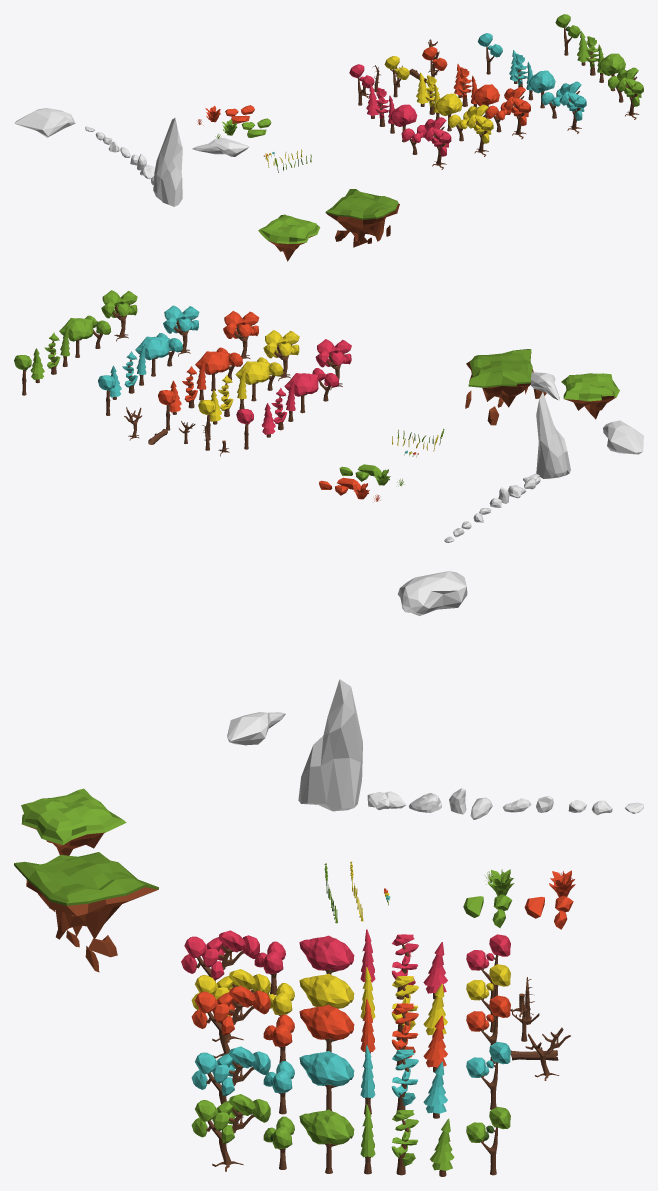
File: forest.glb
3 views of the same model, one above another, from view 1: azimuth 30°, elevation 25°; view 2: azimuth 150°, elevation 25°; view 3: azimuth 270°, elevation 25° (orthographic). The views are drawn at different scales.
Parts seen in each view (by area): view 1: L1, r10, L2, cloud2, t1-yellow, t1-green, t1-cyan, t1-purple, t1-orange, cloud1, t3-cyan, t3-yellow (+9 smaller); view 2: L1, r10, L2, cloud2, t1-green, t1-yellow, t1-cyan, t1-orange, t1-purple, t3-purple, t3-orange, t3-cyan (+4 smaller); view 3: L1, r10, L2, t1-green, t1-orange, t1-cyan, cloud2, t1-purple, t3-green, t3-cyan, t3-orange, t3-purple (+13 smaller).
Part boxes in pixels (x1,y1,x2,y2): L1: (325,189,399,247); r10: (153,118,182,206); L2: (258,214,320,261); cloud2: (14,108,75,137); t1-yellow: (466,104,493,156); t1-green: (616,67,643,119); t1-cyan: (559,81,586,133); t1-purple: (424,117,451,169); t1-orange: (504,87,530,139); cloud1: (192,137,248,156); t3-cyan: (528,70,555,108); t3-yellow: (435,93,462,131); L1: (465,349,546,425); r10: (536,392,570,478); L2: (561,373,619,419); cloud2: (603,420,643,454); t1-green: (101,290,137,341); t1-yellow: (263,330,299,381); t1-cyan: (163,305,199,356); t1-orange: (223,311,259,358); t1-purple: (315,339,351,390); t3-purple: (284,373,318,413); t3-orange: (195,351,229,391); t3-cyan: (135,336,169,376); L1: (14,852,158,972); r10: (298,679,362,811); L2: (21,788,126,855); t1-green: (191,1094,270,1171); t1-orange: (191,985,270,1058); t1-cyan: (191,1046,270,1117); cloud2: (397,571,467,615); t1-purple: (181,930,259,981); t3-green: (299,1109,354,1173); t3-cyan: (299,1051,354,1110); t3-orange: (299,1004,354,1052); t3-purple: (299,935,354,974).
Size of what is drawn, in the model's own units: 158 by 31.34 by 87.79.
